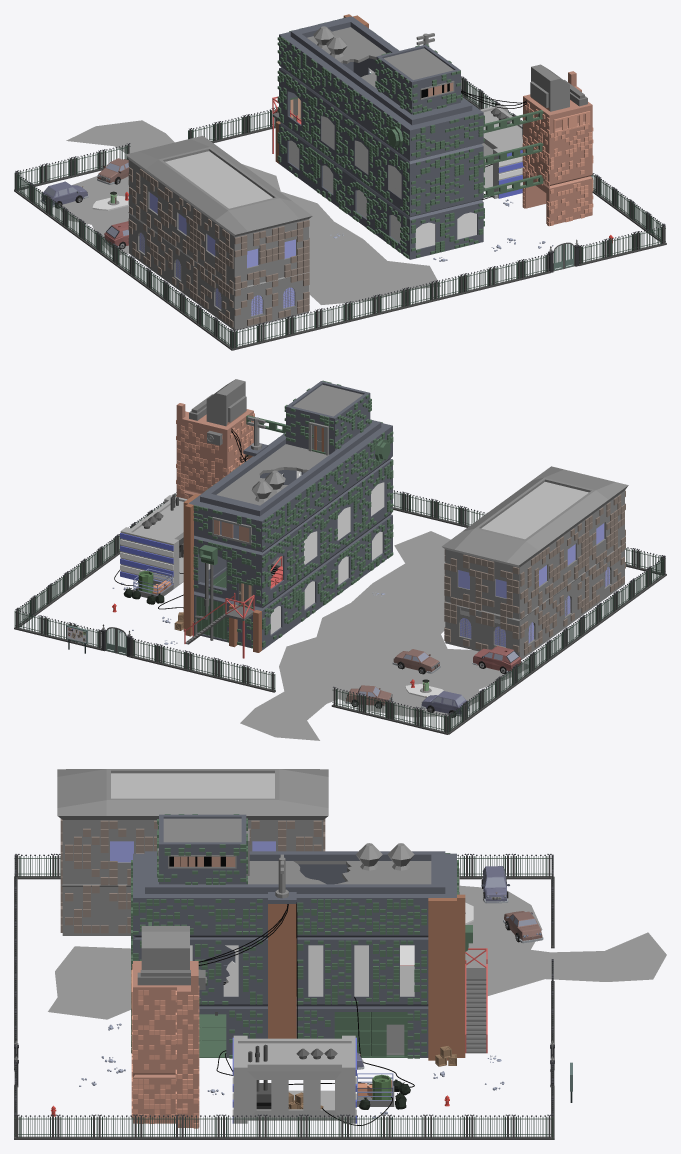
File: FactoryDefault.fbx
The picture shows the model from 3 angles, top to bottom: view 1: azimuth 30°, elevation 25°; view 2: azimuth 150°, elevation 25°; view 3: azimuth 270°, elevation 25°; orthographic projection. The views are drawn at different scales.
Visible parts, largest first — view 1: Cube.060, Cube.023, Plane, Factory_1, Roof_2, Cube.020, Tower_1, Connection, Roof_3, Storage_1, Car_2, Car_1.001 (+19 smaller); view 2: Cube.060, Plane, Cube.023, Factory_1, Cube.020, Roof_2, Storage_1, Roof_3, Ladder, Car_3, Tower_1, Cube.057 (+9 smaller); view 3: Cube.060, Cube.023, Plane, Factory_1, Roof_2, Tower_1, Storage_1, Roof_3, Cube.020, Ladder, Circle.007, Car_1.001 (+18 smaller).
Part boxes in pixels (x1,y1,x2,y2): Cube.060: (277, 14, 484, 220); Cube.023: (125, 135, 312, 289); Plane: (59, 120, 440, 304); Factory_1: (275, 121, 484, 259); Roof_2: (522, 64, 593, 192); Cube.020: (128, 212, 309, 330); Tower_1: (522, 71, 593, 226); Connection: (483, 110, 543, 197); Roof_3: (480, 104, 522, 158); Storage_1: (482, 143, 524, 198); Car_2: (40, 181, 88, 208); Car_1.001: (97, 158, 128, 184); Cube.060: (183, 380, 393, 610); Plane: (240, 531, 528, 740); Cube.023: (442, 466, 628, 619); Factory_1: (183, 514, 393, 652); Cube.020: (444, 542, 625, 659); Roof_2: (184, 379, 254, 497); Storage_1: (120, 538, 183, 588); Roof_3: (120, 495, 187, 550); Ladder: (184, 563, 255, 658); Car_3: (472, 645, 521, 673); Tower_1: (176, 403, 189, 499); Cube.057: (196, 596, 226, 639); Cube.060: (131, 814, 472, 1011); Cube.023: (57, 769, 328, 885); Plane: (48, 885, 666, 1019); Factory_1: (131, 965, 465, 1060); Roof_2: (131, 926, 206, 1081); Tower_1: (131, 972, 199, 1128); Storage_1: (232, 1071, 356, 1123); Roof_3: (232, 1035, 356, 1075); Cube.020: (60, 884, 130, 935); Ladder: (465, 948, 487, 1053); Circle.007: (357, 1073, 394, 1106); Car_1.001: (503, 911, 543, 943).
Size of the model in its own units: 4306 by 1590 by 4530.
